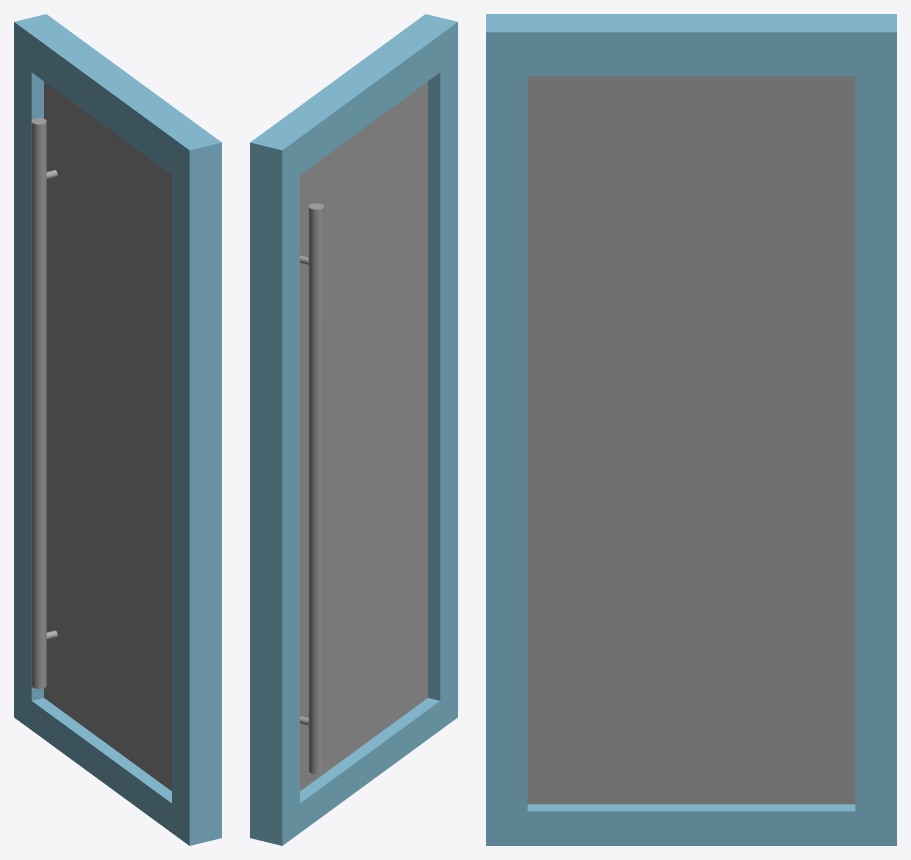
Rendered from baeckerladenTuer.fbx.
3 renders of one model, left to right at view 1: azimuth 30°, elevation 25°; view 2: azimuth 150°, elevation 25°; view 3: azimuth 270°, elevation 25°, orthographic. The views are drawn at different scales.
Visible parts, largest first — view 1: pCube1, door1, pCylinder1; view 2: door1, pCube1, pCylinder1; view 3: pCube1, door1.
Boxes of the visible parts, left/top/right/bottom form: pCube1: left=44, top=81, right=171, bottom=790; door1: left=14, top=14, right=221, bottom=845; pCylinder1: left=31, top=118, right=46, bottom=688; door1: left=250, top=14, right=457, bottom=845; pCube1: left=300, top=81, right=427, bottom=790; pCylinder1: left=308, top=203, right=323, bottom=773; pCube1: left=527, top=76, right=855, bottom=804; door1: left=486, top=14, right=896, bottom=845.
Bounding box in the file's own units: 0.1302 × 1.99 × 0.9108.
